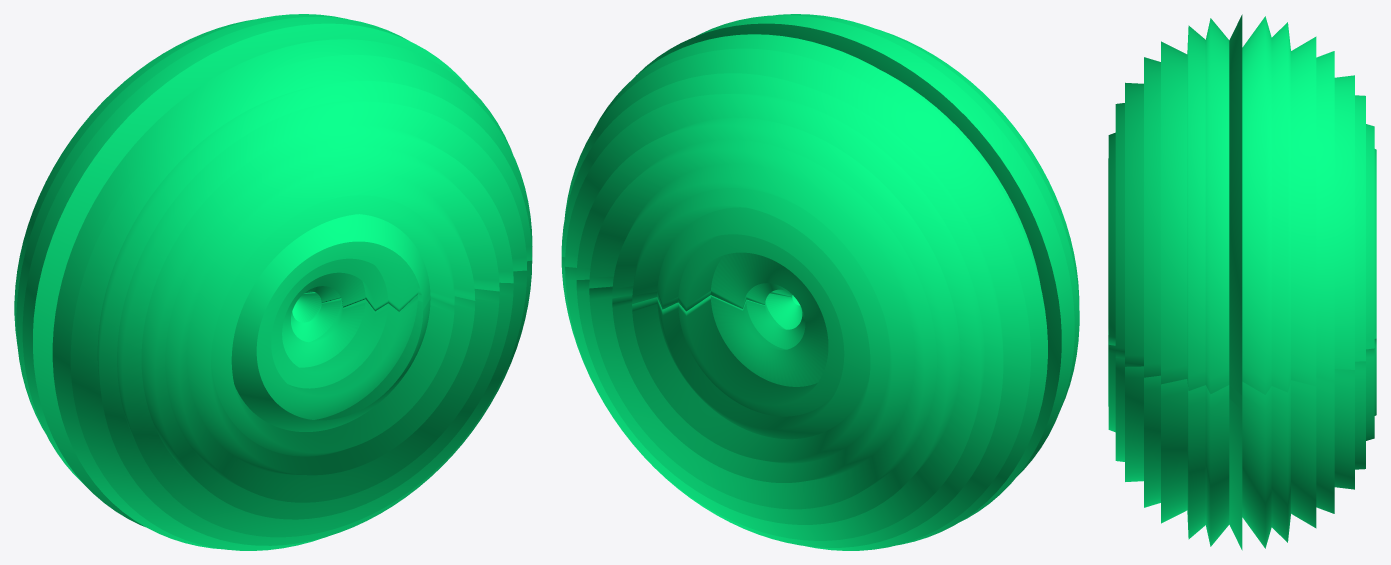
File: modular_arithmetic_torus_sketchfab_animated_1764183987274.glb
3 renders of one model, left to right at view 1: azimuth 30°, elevation 25°; view 2: azimuth 150°, elevation 25°; view 3: azimuth 270°, elevation 25°, orthographic. The views are drawn at different scales.
Visible parts, largest first — view 1: MathShape; view 2: MathShape; view 3: MathShape.
Part boxes in pixels (box(x1,y1,x2,y2)): MathShape: box(14, 14, 532, 550); MathShape: box(561, 14, 1079, 550); MathShape: box(1108, 14, 1376, 550).
Size of the model in its own units: 4 by 4 by 2.
